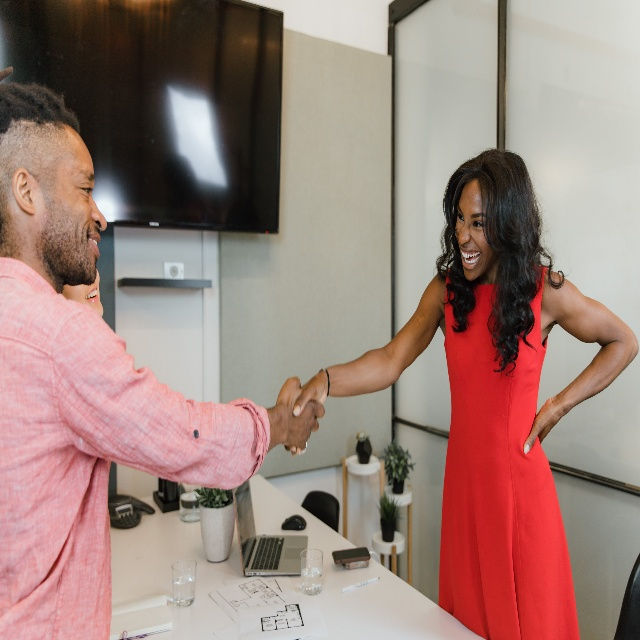Sin_guantes: (282, 374, 328, 454), (278, 375, 322, 455), (523, 397, 560, 454)
